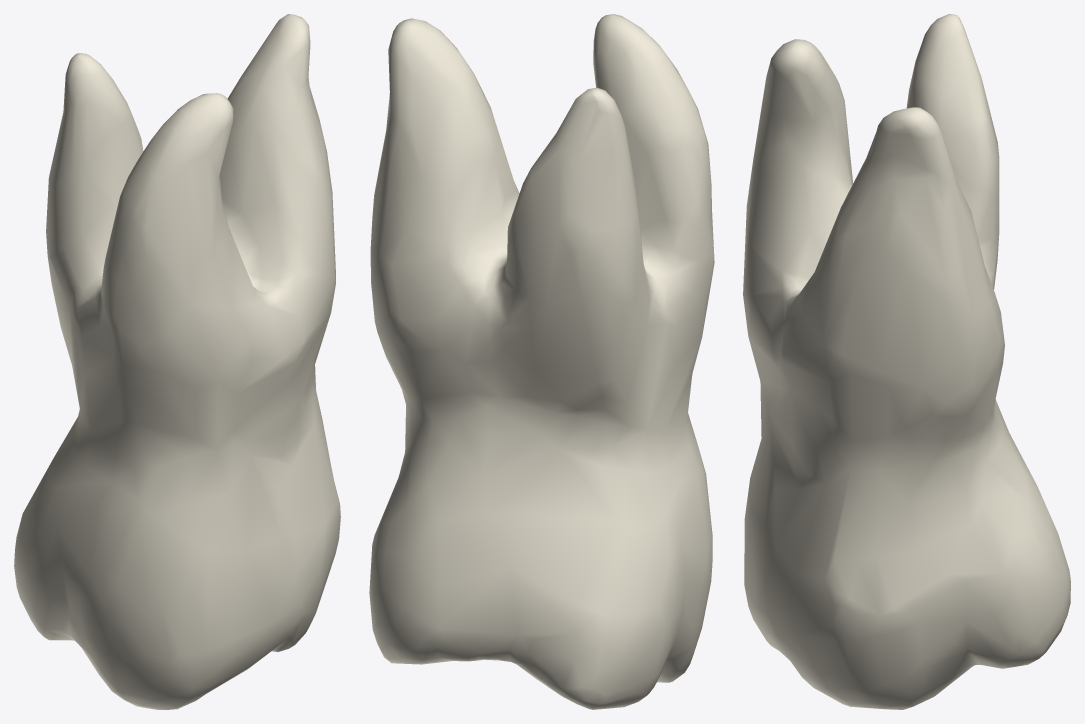
3 views of the same model, side by side, from view 1: azimuth 30°, elevation 25°; view 2: azimuth 150°, elevation 25°; view 3: azimuth 270°, elevation 25° (orthographic). The views are drawn at different scales.
Parts seen in each view (by area): view 1: ZA_ca93dafc2abce606; view 2: ZA_ca93dafc2abce606; view 3: ZA_ca93dafc2abce606.
Part boxes in pixels (x1=…): ZA_ca93dafc2abce606: x1=14, y1=14, x2=340, y2=709; ZA_ca93dafc2abce606: x1=369, y1=14, x2=714, y2=709; ZA_ca93dafc2abce606: x1=743, y1=14, x2=1070, y2=709.
Bounding box in the file's own units: 0.0113 × 0.024 × 0.0113.
